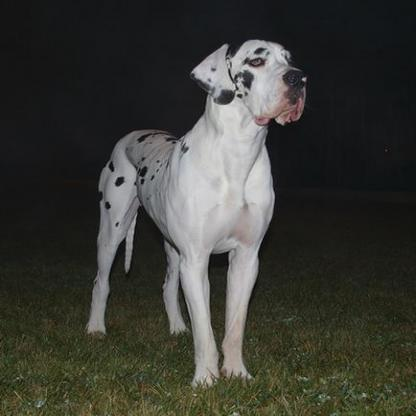Great_Dane: (83, 38, 306, 390)
